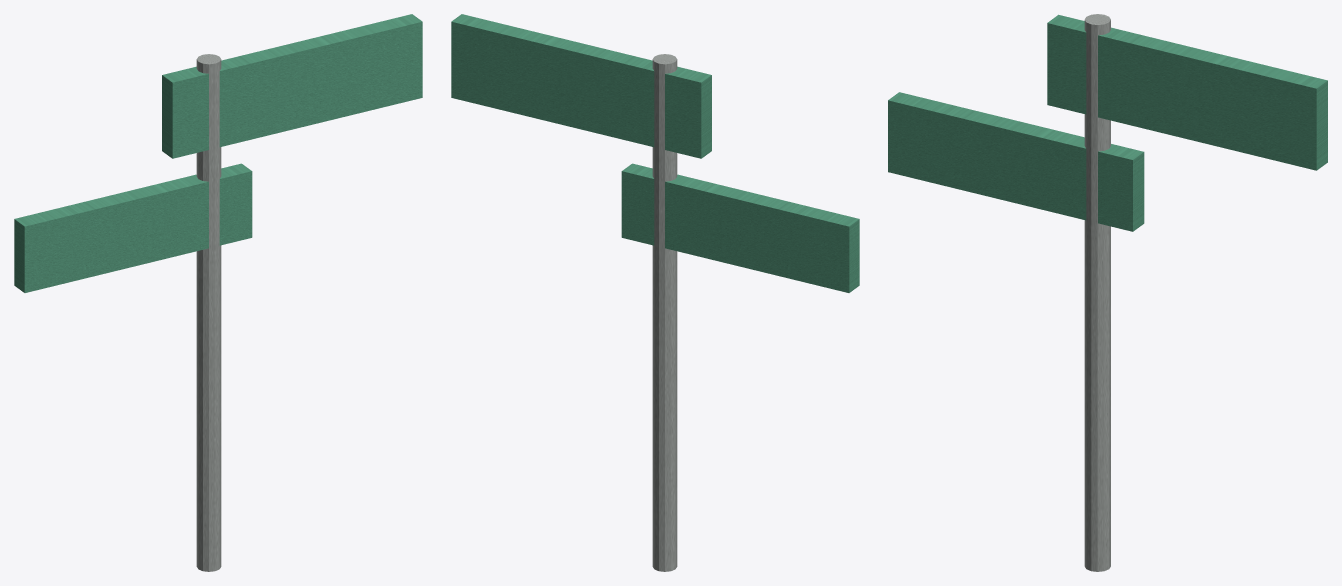
The model's file is eastern_cape_sign_lod2.glb.
3 views of the same model, side by side, from view 1: azimuth 30°, elevation 25°; view 2: azimuth 150°, elevation 25°; view 3: azimuth 330°, elevation 25° (orthographic). The views are drawn at different scales.
Parts seen in each view (by area): view 1: world; view 2: world; view 3: world.
Boxes of the visible parts, x1,y1,x2,y2 form: world: [14, 14, 422, 571]; world: [451, 14, 859, 571]; world: [888, 14, 1327, 571].
Size of the model in its own units: 2.62 by 3.2 by 0.14.
Materials: 3 (3 with a texture image).
